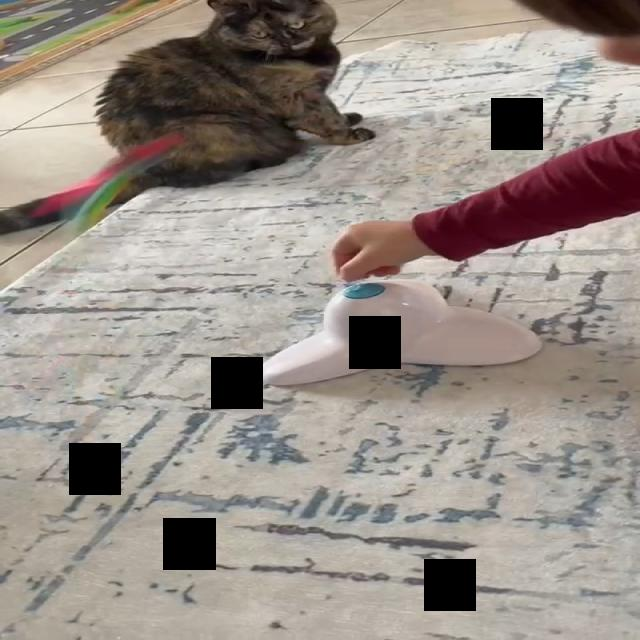authorized: (0, 0, 375, 235)
